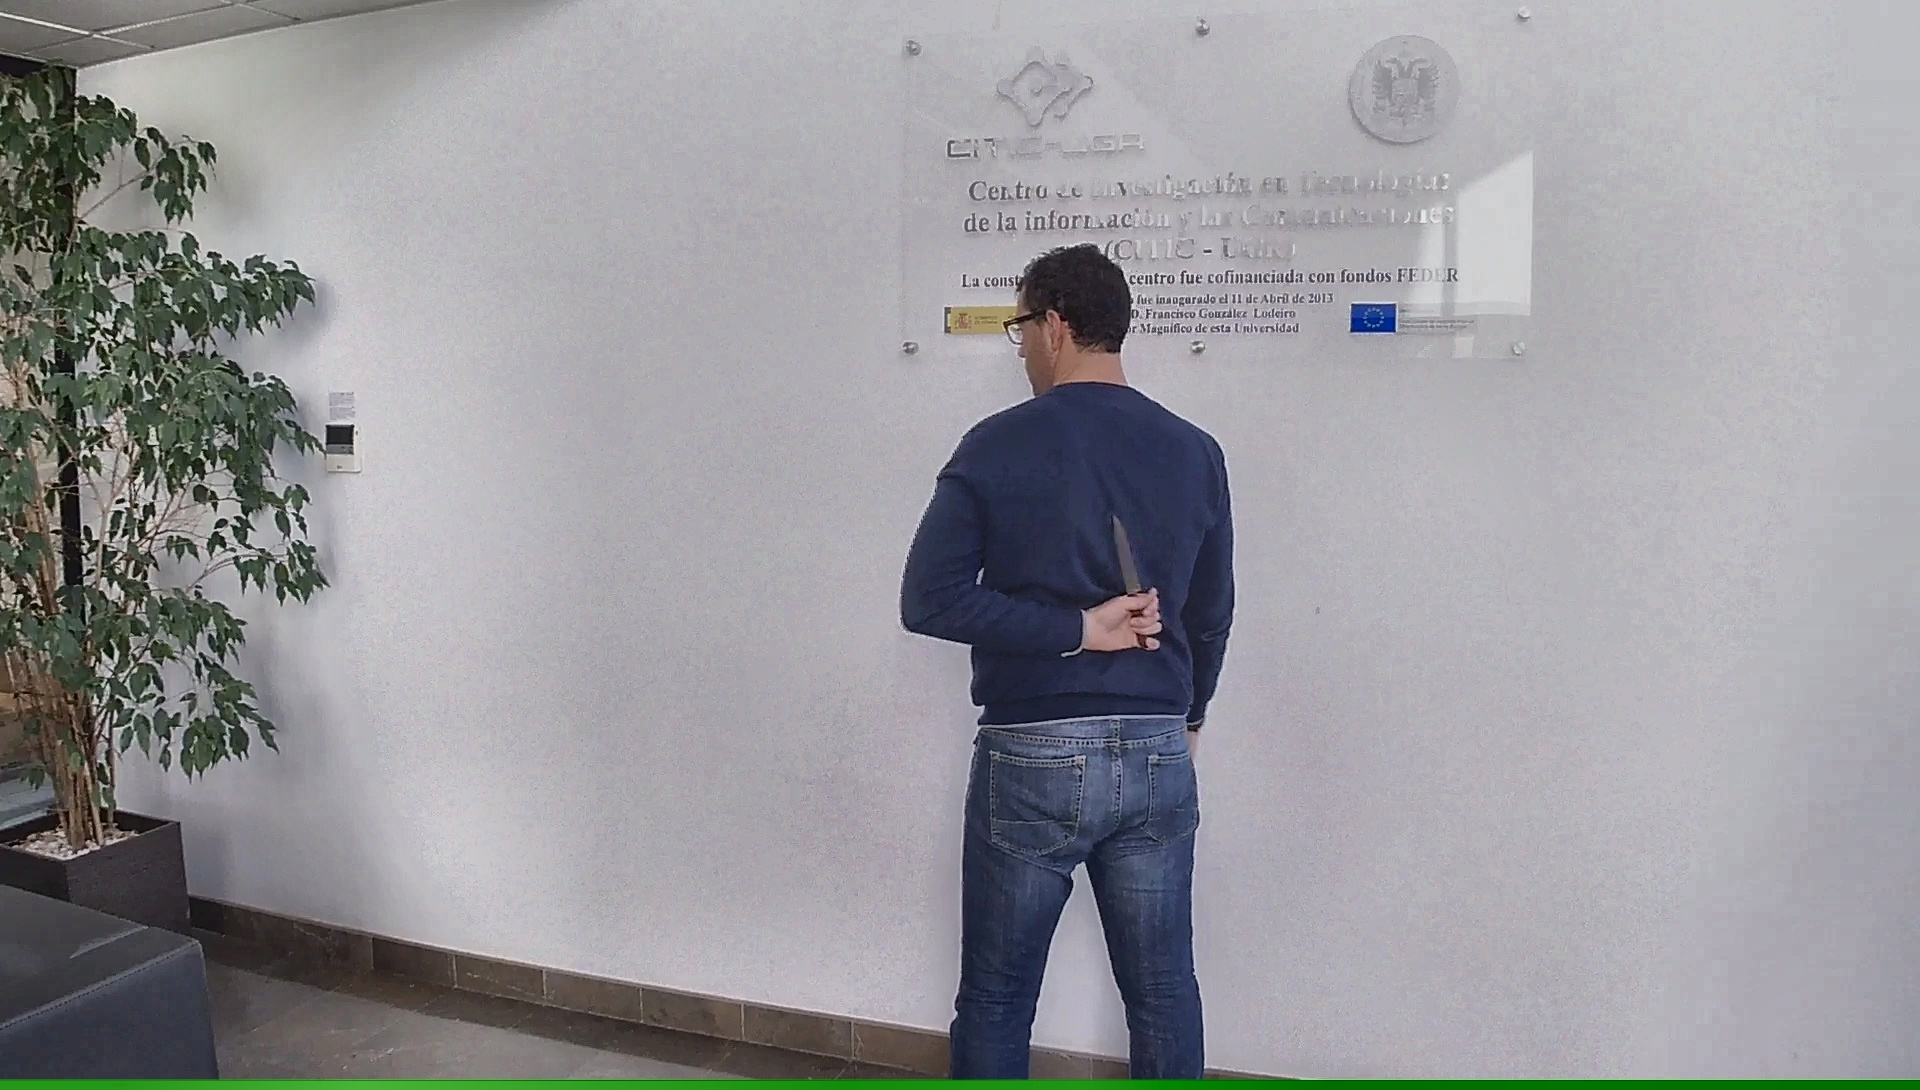knife: (1104, 503, 1171, 660)
